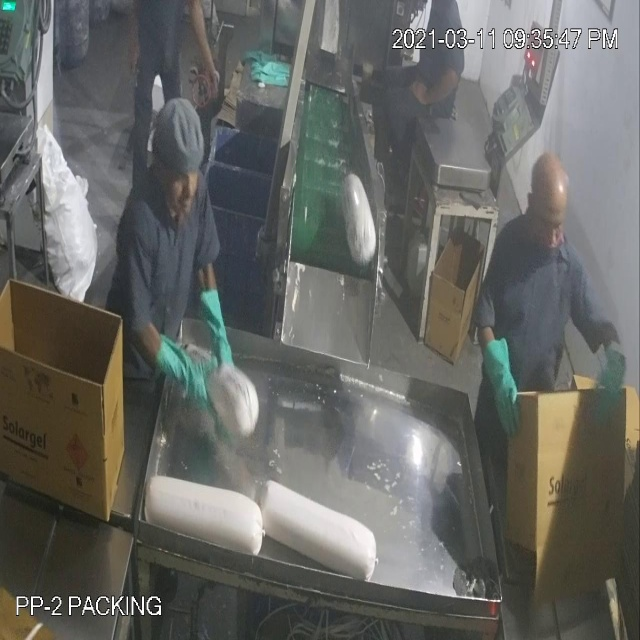Guantes: (475, 315, 532, 442), (196, 276, 247, 388), (588, 339, 628, 428)
Sin_guantes: (186, 3, 231, 113), (401, 62, 461, 111)
